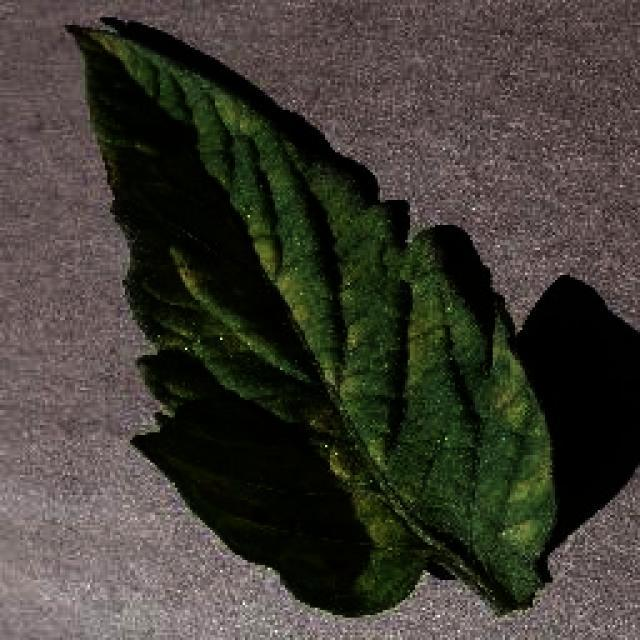Tomato mold leaf: (68, 23, 556, 615)
